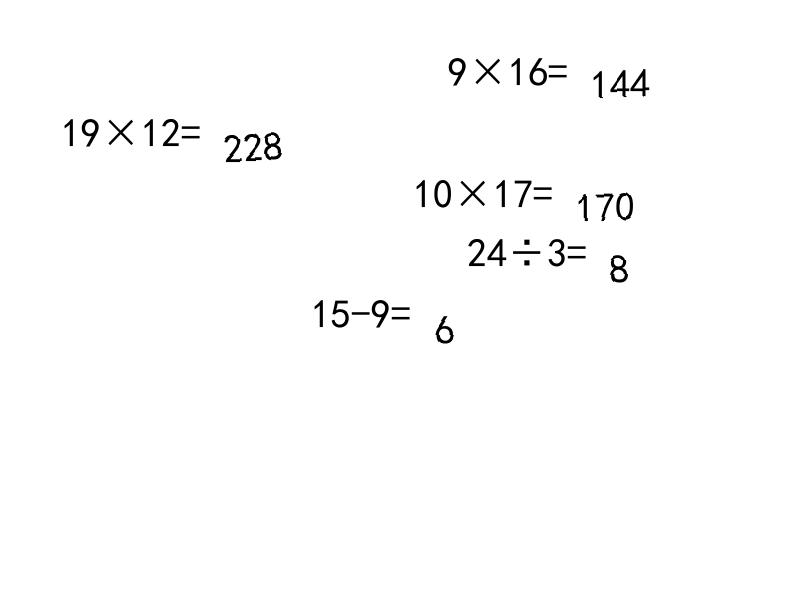-: (351, 293, 371, 321)
0: (433, 173, 453, 202), (603, 173, 623, 202)
1: (61, 112, 81, 141), (141, 112, 161, 141), (413, 173, 433, 202), (493, 173, 513, 202), (563, 173, 583, 202), (508, 51, 528, 79), (578, 51, 598, 79), (311, 293, 331, 321)
2: (161, 112, 181, 141), (211, 112, 231, 141), (231, 112, 251, 141), (467, 232, 487, 261)
3: (547, 232, 567, 261)
4: (487, 232, 507, 261), (598, 51, 618, 79), (618, 51, 638, 79)
5: (331, 293, 351, 321)
6: (528, 51, 548, 79), (421, 293, 441, 321)
7: (513, 173, 533, 202), (583, 173, 603, 202)
8: (251, 112, 271, 141), (597, 232, 617, 261)
9: (81, 112, 101, 141), (448, 51, 468, 79), (371, 293, 391, 321)
=: (181, 112, 201, 141), (533, 173, 553, 202), (567, 232, 587, 261), (548, 51, 568, 79), (391, 293, 411, 321)
×: (101, 112, 141, 141), (453, 173, 493, 202), (468, 51, 508, 79)
÷: (507, 232, 547, 261)
